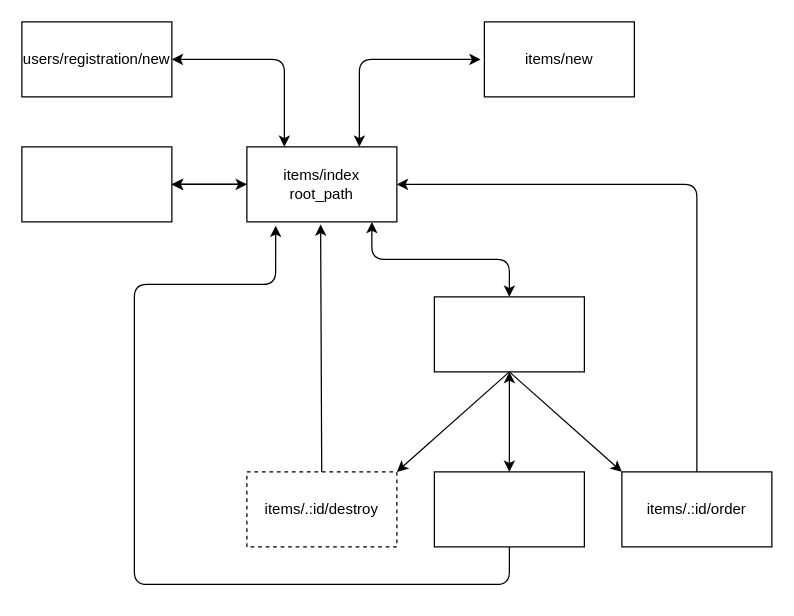
This 794x616 diagram has some shape labels left out. The box of each missing label's shape, as (x1, y1, x2, y2) in pixels:
items/.:id/edit: (433, 471, 584, 547)
items/.:id/show: (433, 296, 584, 372)
users/session/new: (21, 146, 172, 222)
